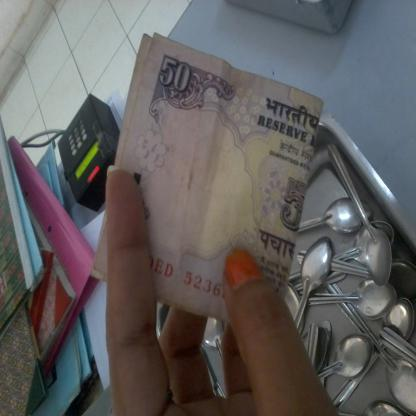Old50Front: (88, 32, 323, 324)
